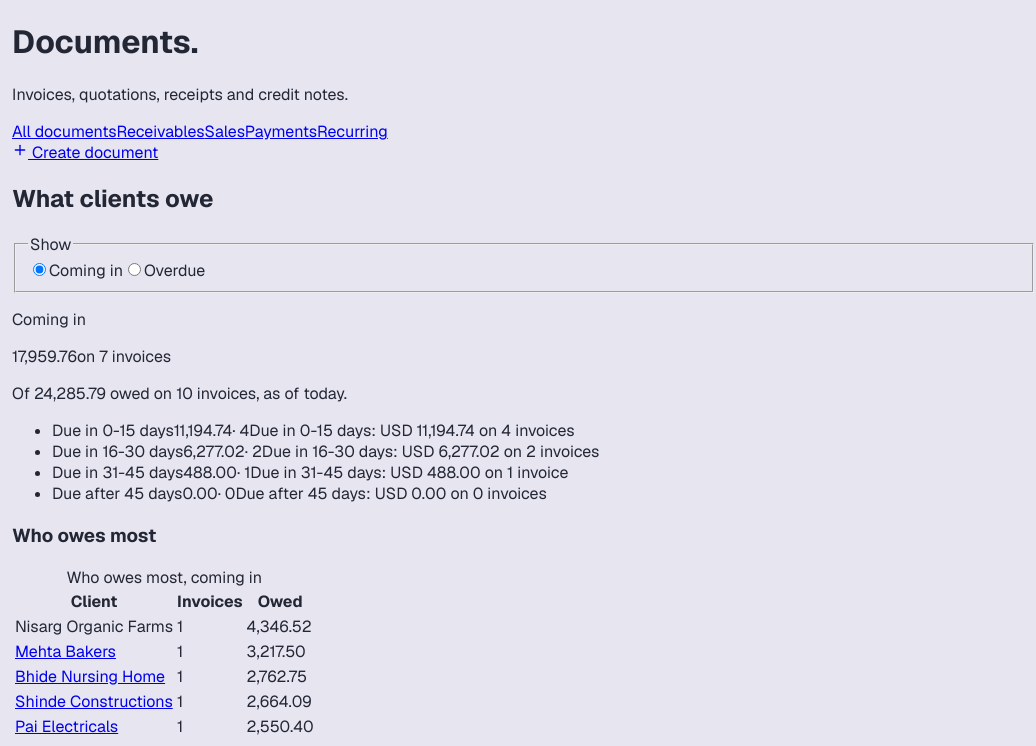
Test: switches mode with the pills
expect the table is shown: met, box [14, 615, 315, 738]
Click the radio button named "receivables-mode": (134,270) [128, 263, 141, 276]
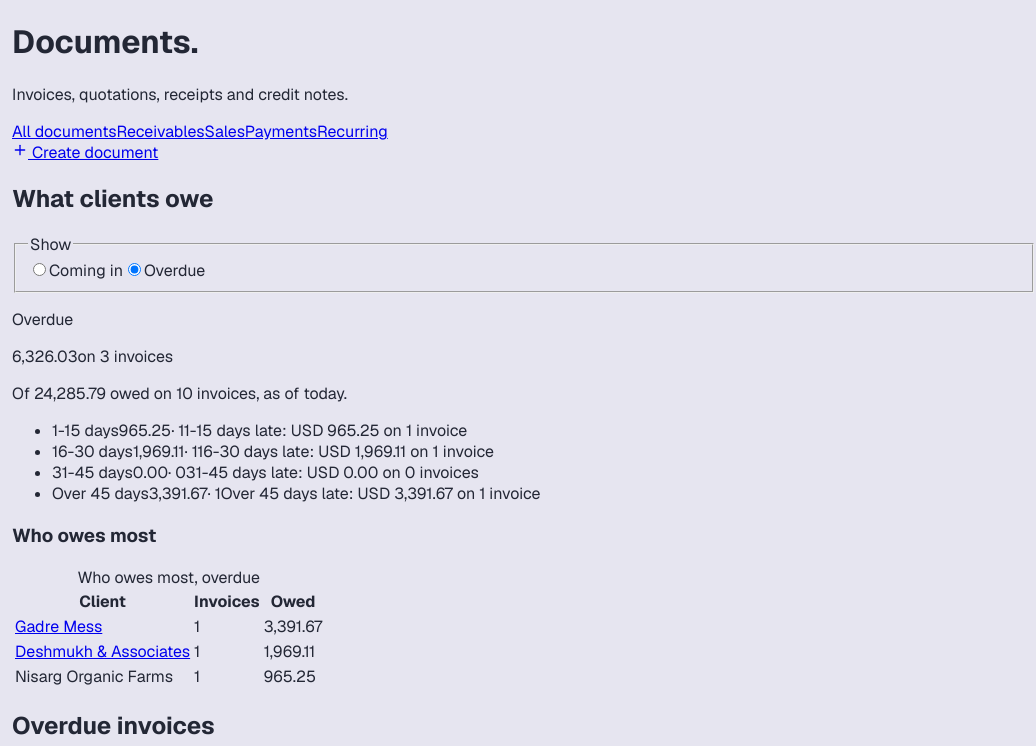
Click the radio button named "receivables-mode": (40,270) [33, 263, 46, 276]
(page scrolled)
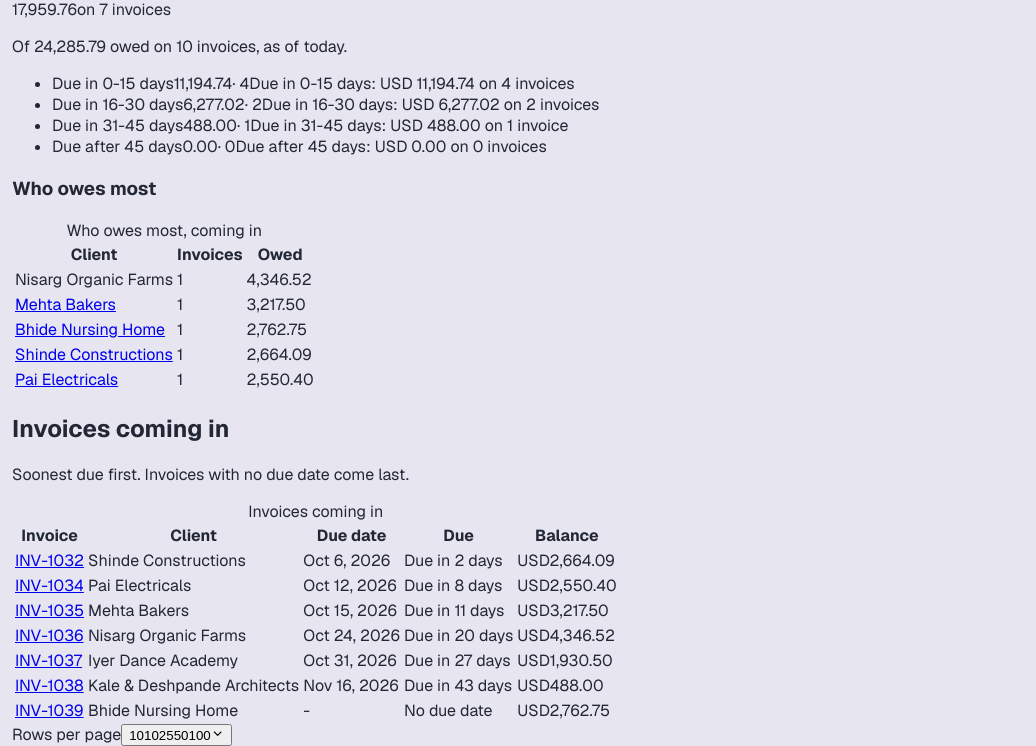
expect the link "INV-1032" is shown: met, box [15, 550, 84, 570]
